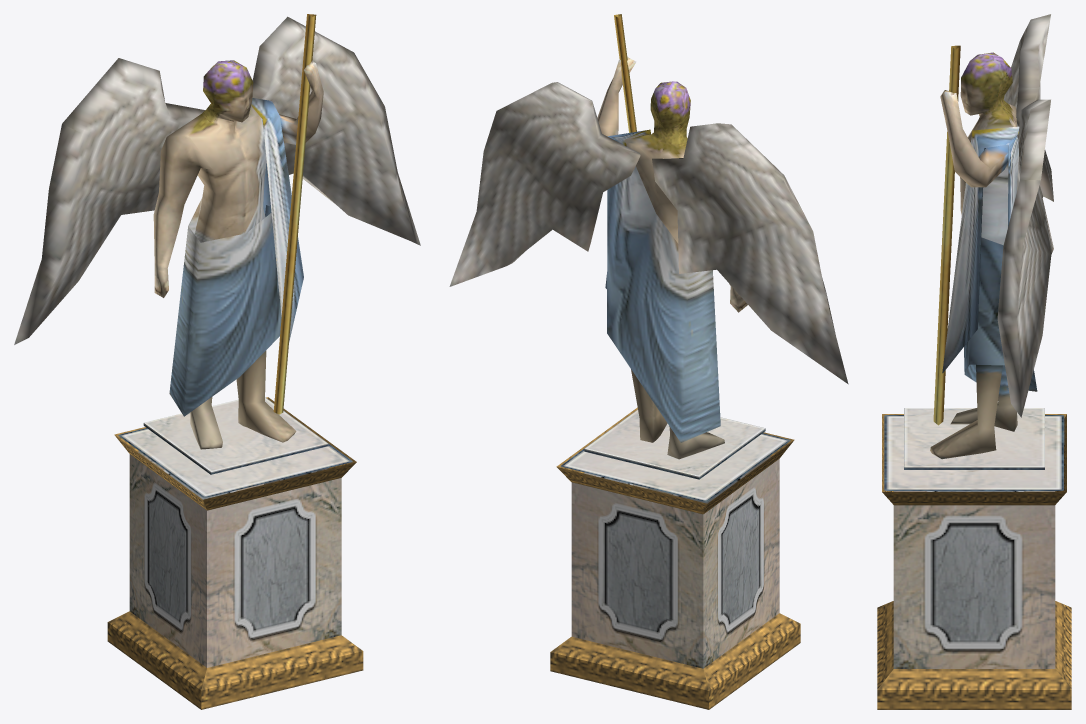
The model's file is rome_statue_3.dae.
3 views of the same model, side by side, from view 1: azimuth 30°, elevation 25°; view 2: azimuth 150°, elevation 25°; view 3: azimuth 270°, elevation 25° (orthographic). The views are drawn at different scales.
Parts seen in each view (by area): view 1: sculptures; view 2: sculptures; view 3: sculptures.
Part boxes in pixels (left/top/right/bottom): sculptures: left=14, top=14, right=420, bottom=709; sculptures: left=449, top=14, right=848, bottom=709; sculptures: left=877, top=14, right=1071, bottom=709.
Bounding box in the file's own units: 6.78 × 2.7 × 10.05.
